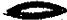Mouth: (3, 2, 66, 19)
